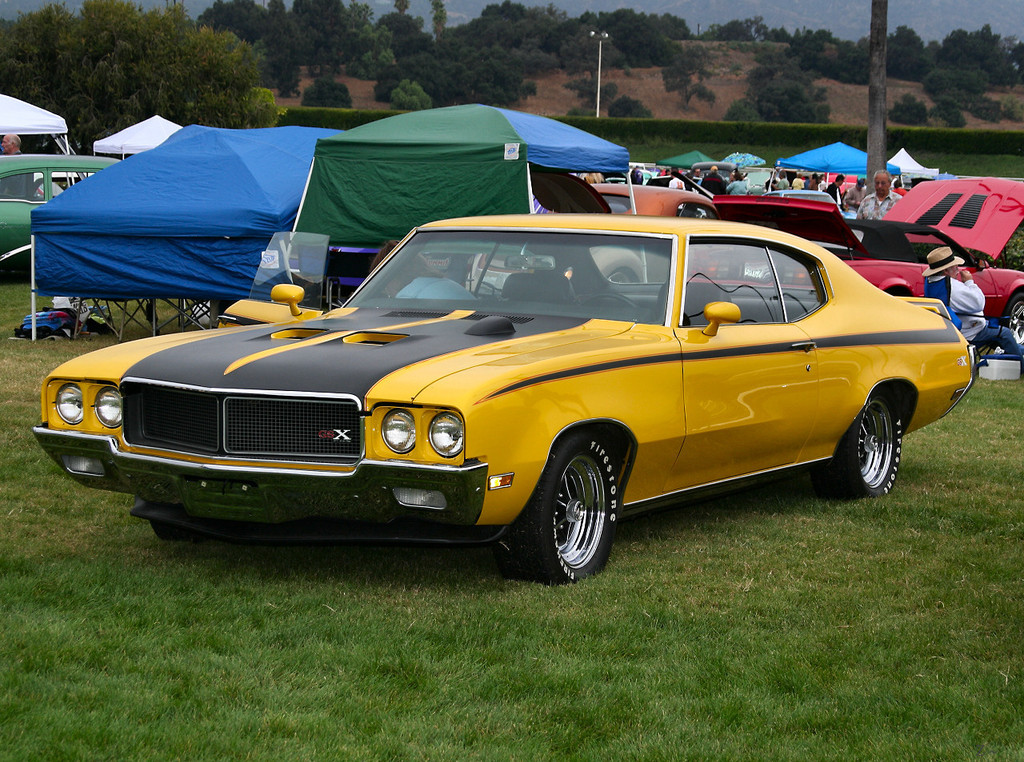Car: (30, 213, 974, 584), (0, 152, 1023, 343)
